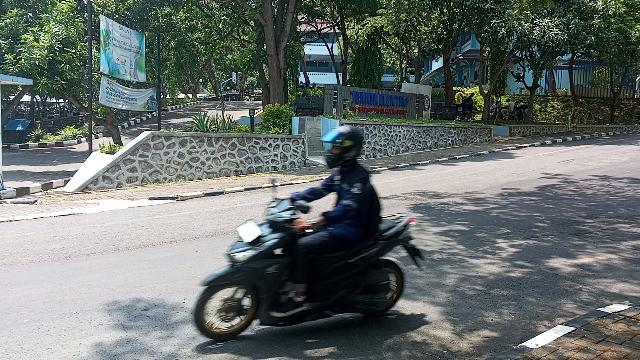helm: (321, 125, 366, 171)
motor: (193, 173, 428, 343)
